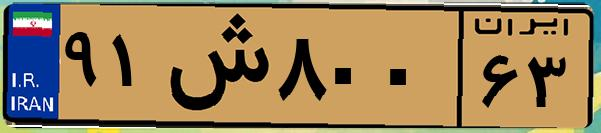0: (385, 28, 445, 110), (330, 28, 385, 110)
1: (110, 28, 158, 98)
3: (525, 38, 570, 115)
6: (475, 38, 525, 113)
8: (270, 28, 330, 110)
9: (57, 26, 110, 100)
ش: (158, 12, 270, 120)
